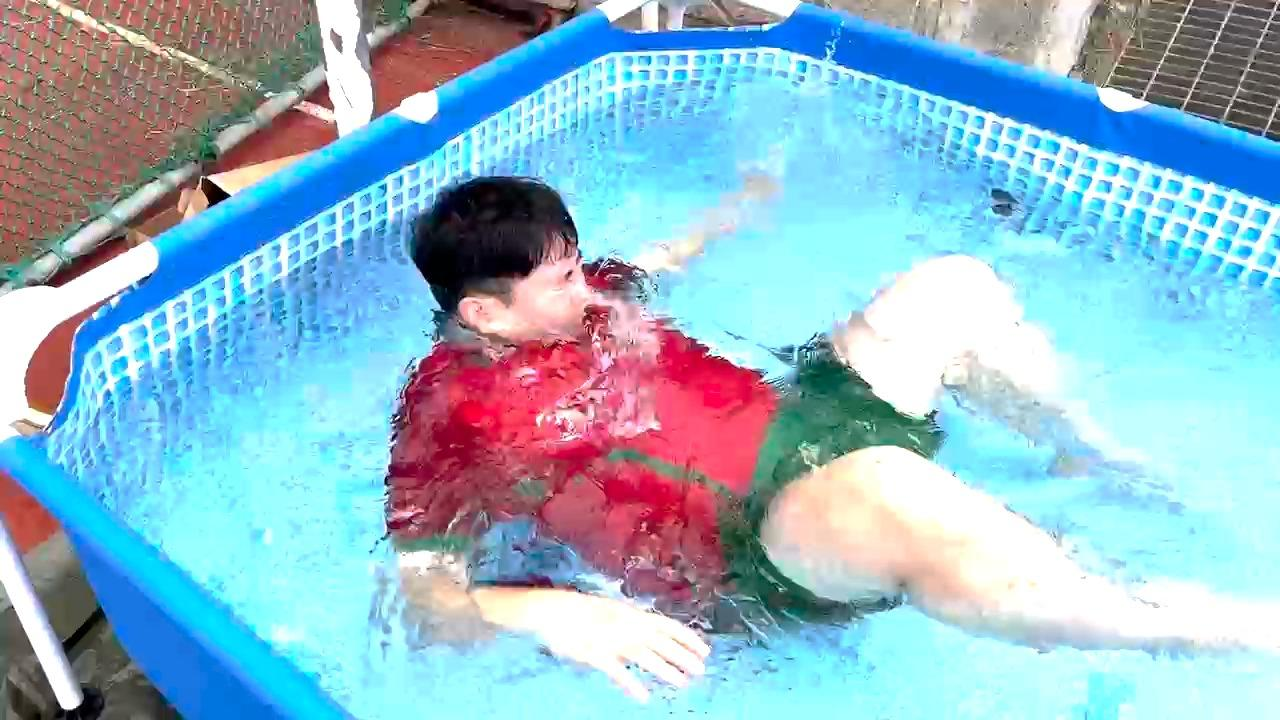Drowning: (317, 129, 1243, 683)
